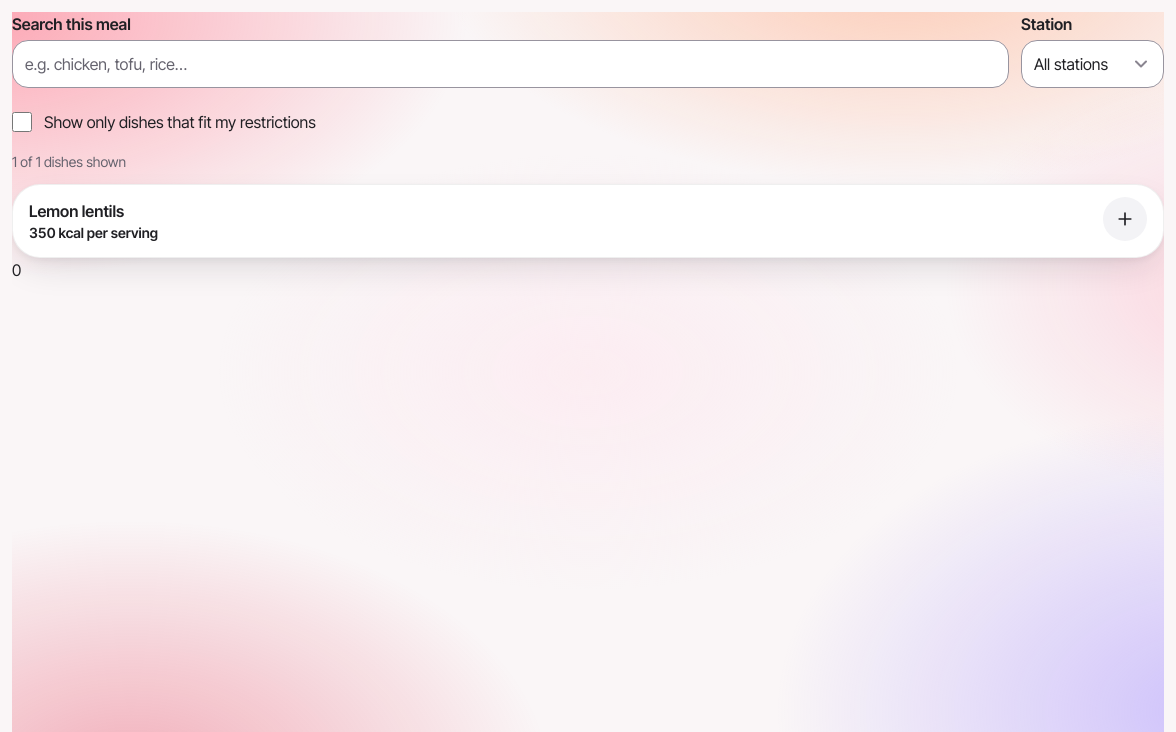
compact menu interaction › keeps the add action and visibly distinguishes a dish already on the plate
Click the button named "Add Lemon lentils to plate".
click(1125, 219)  # box [1103, 197, 1147, 241]
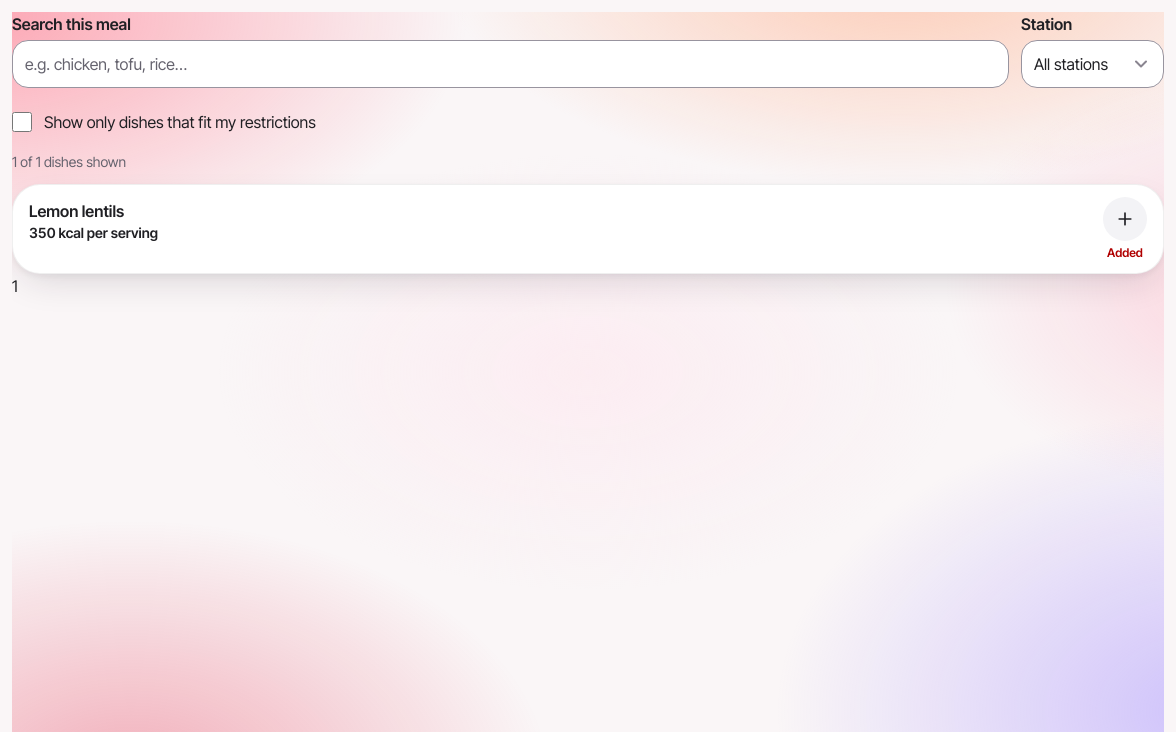
Check: the text named "Servings on plate" reads "1", box [12, 276, 18, 296]
Check: the text "Added" is shown, box [1107, 245, 1143, 261]
Click the button named "Lemon lentils is on your plate; add another serving".
click(1125, 219)  # box [1103, 197, 1147, 241]
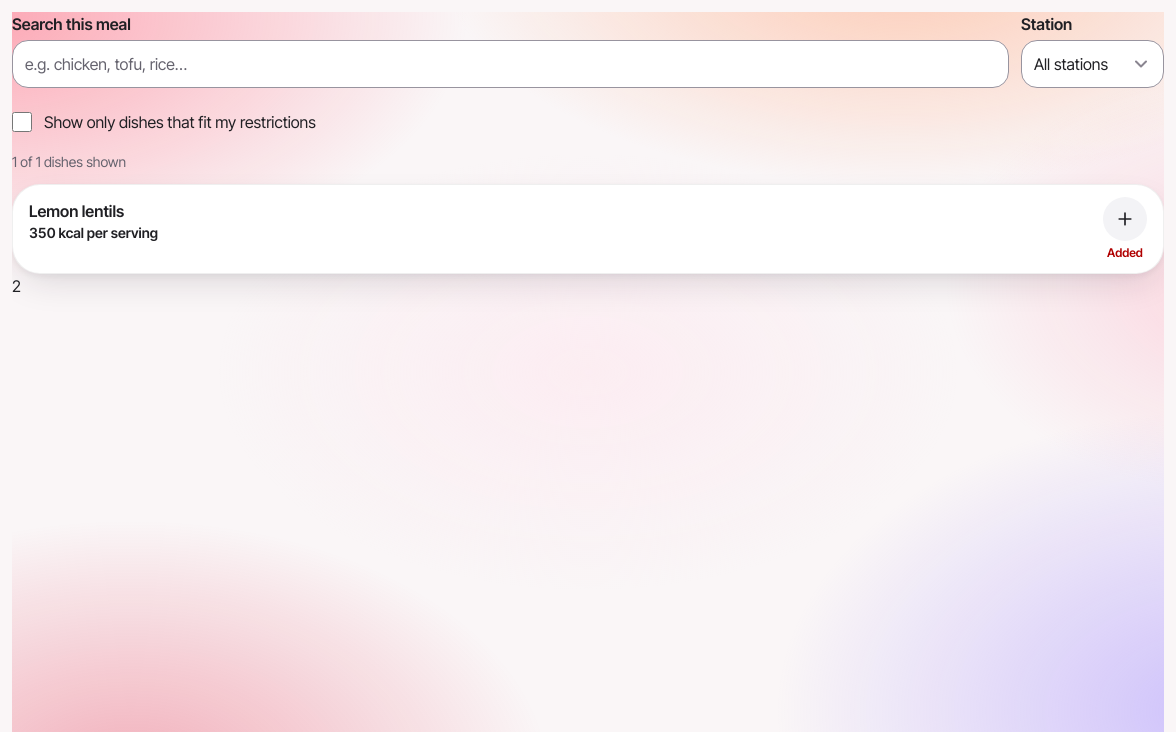
Check: the text named "Servings on plate" reads "2", box [12, 276, 21, 296]
